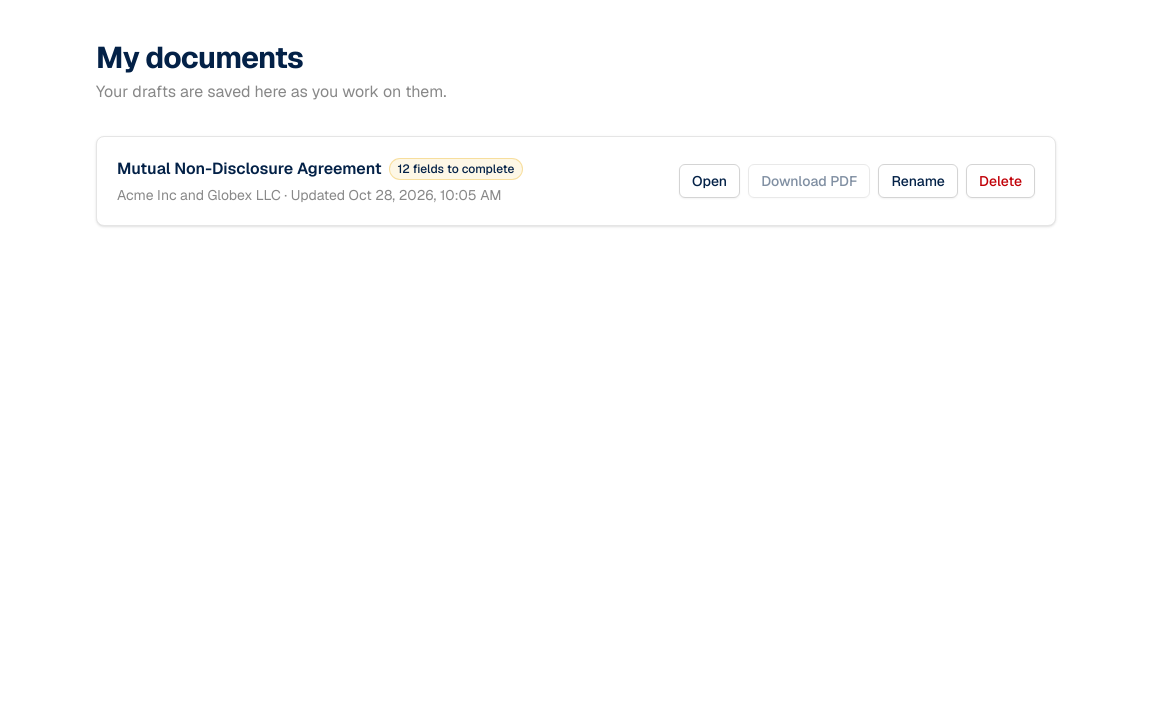
deleting a document › deletes it once confirmed
Click the button "Delete" at point(1000, 181), box [966,164,1035,198]
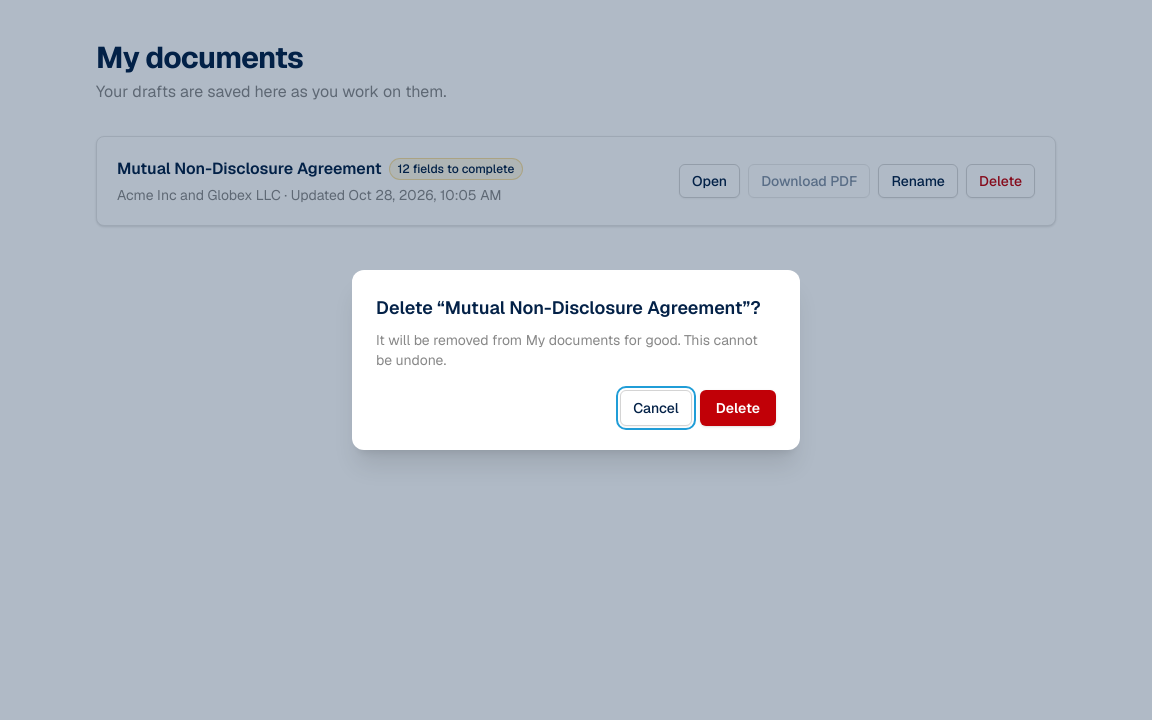
Click the button "Delete" at point(738, 408), box [700,390,776,426]
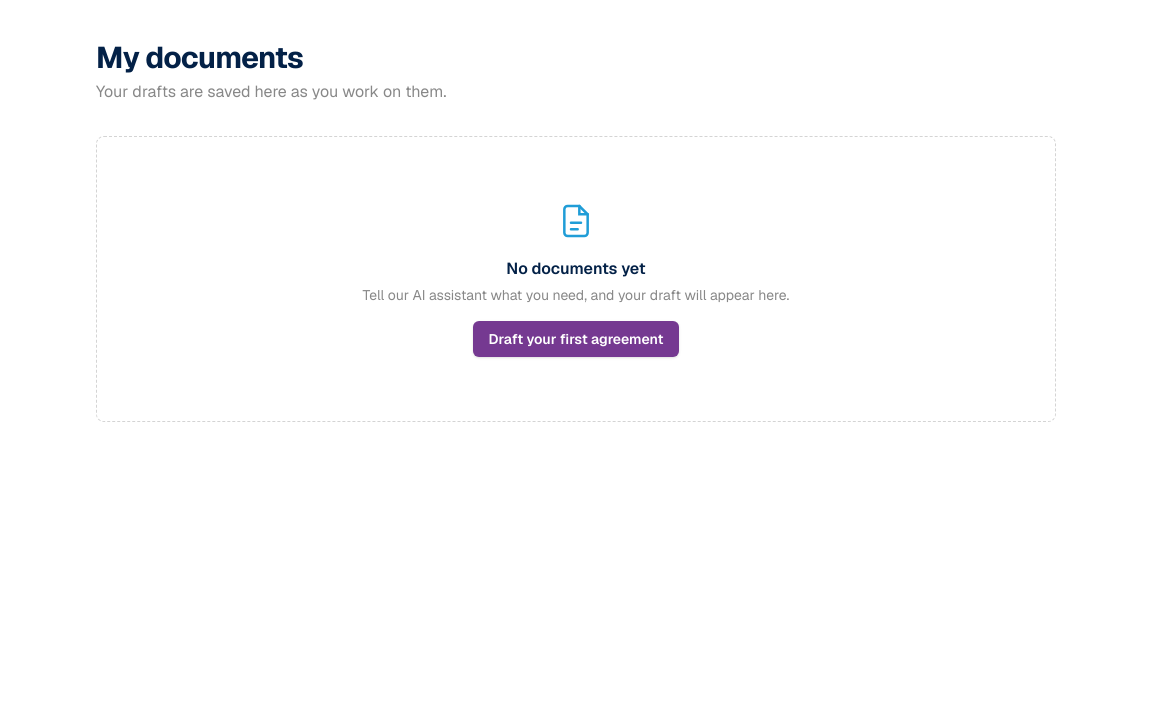
Check: the dialog is gone
Check: the heading "No documents yet" is shown, box [506,258,646,279]
